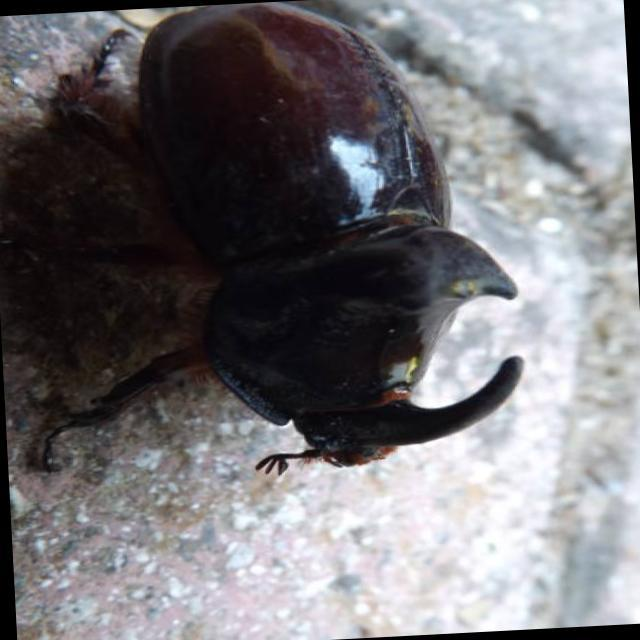Rhino-beetle: (90, 3, 534, 523)
